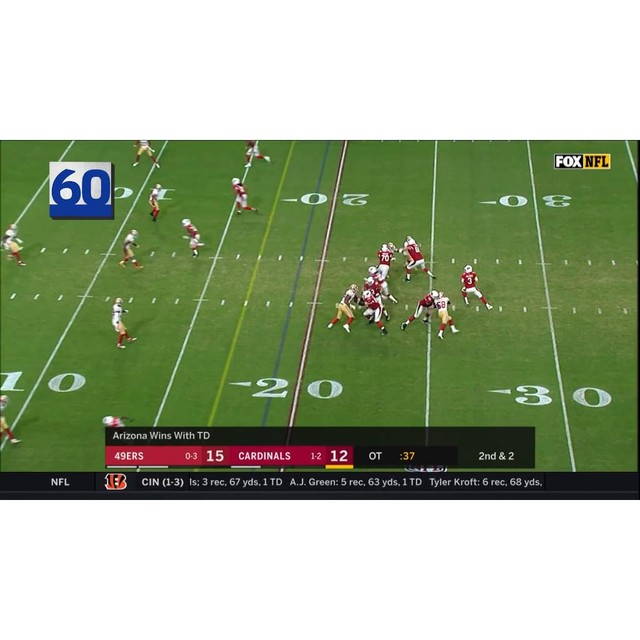american-football-player: (400, 235, 436, 282), (326, 283, 359, 333), (401, 290, 439, 330), (460, 264, 492, 310), (111, 297, 138, 348), (360, 289, 388, 337), (433, 290, 460, 339), (0, 393, 21, 445), (369, 268, 399, 304), (1, 223, 26, 266), (118, 229, 143, 270), (181, 218, 206, 258), (231, 178, 258, 215), (132, 140, 160, 168), (243, 140, 271, 167), (376, 243, 394, 279), (148, 183, 163, 222)
